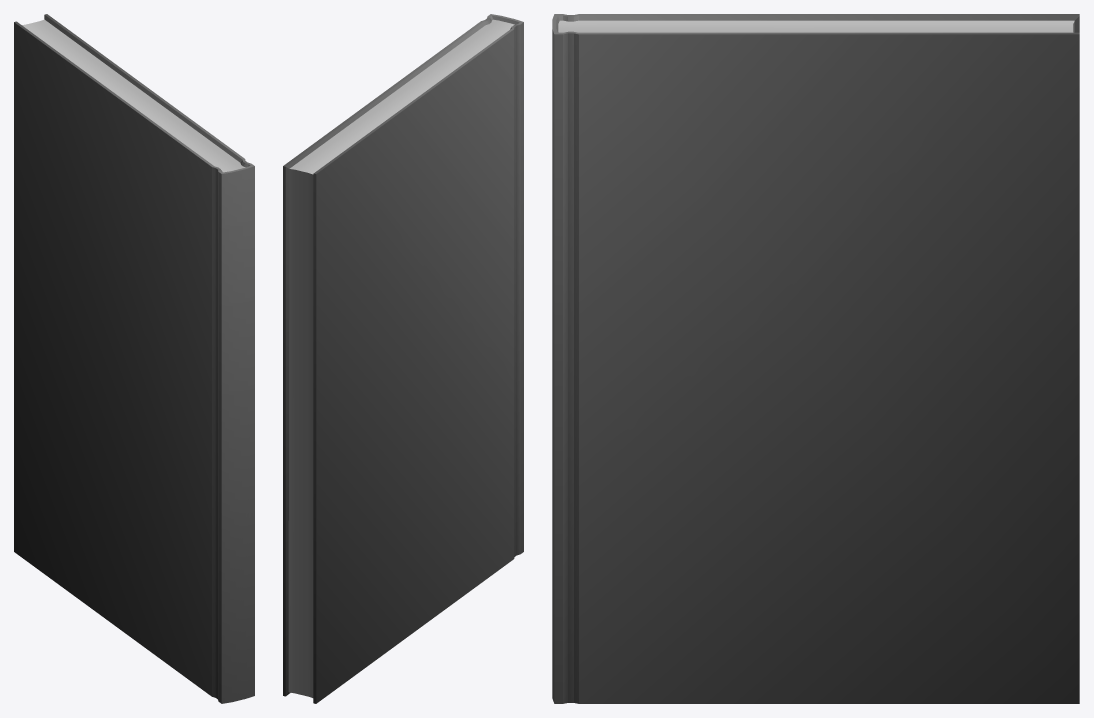
The model's file is Book_03.fbx.
3 views of the same model, side by side, from view 1: azimuth 30°, elevation 25°; view 2: azimuth 150°, elevation 25°; view 3: azimuth 270°, elevation 25° (orthographic). The views are drawn at different scales.
Visible parts, largest first — view 1: book_3; view 2: book_3; view 3: book_3.
Boxes of the visible parts, x1,y1,x2,y2 form: book_3: (14, 14, 254, 703); book_3: (283, 14, 523, 703); book_3: (552, 14, 1079, 703).
Bounding box in the file's own units: 0.0158 × 0.2406 × 0.1718.
